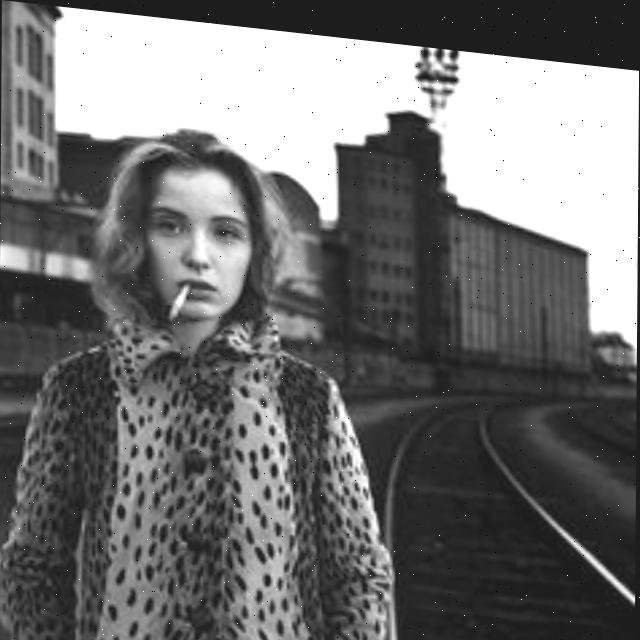cigarette: (168, 274, 191, 318)
